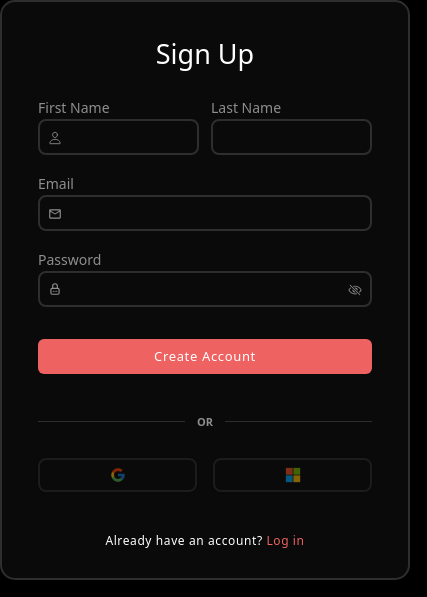
SignUpPage › User Interactions › toggles password visibility
The image size is (427, 597).
Click the button named "Show password" at (355,290), box [348,283,362,297]
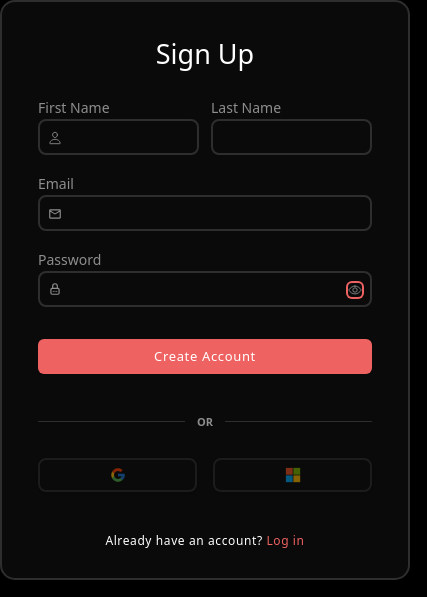
Check: the button named "Hide password" is shown
Click the button named "Hide password" at (355,290), box [348,283,362,297]
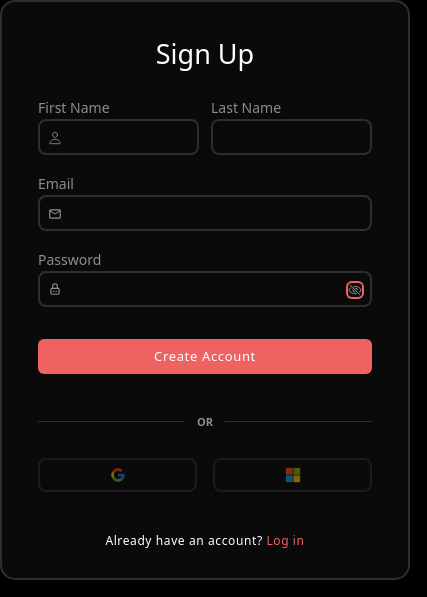
Check: the button named "Show password" is shown, box [348,283,362,297]
